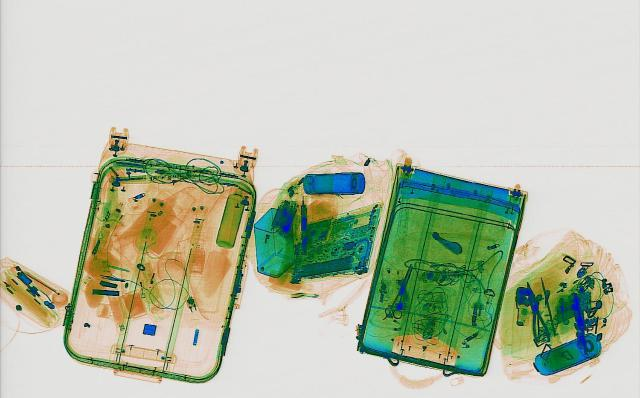Pliers: (516, 279, 552, 340)
Scissors: (380, 261, 420, 316)
